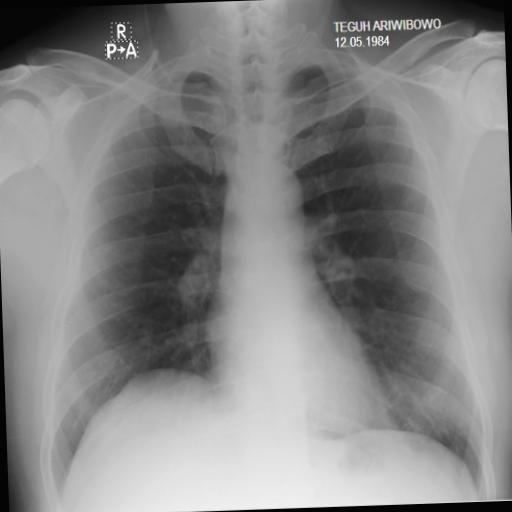normal: (23, 3, 495, 512)
